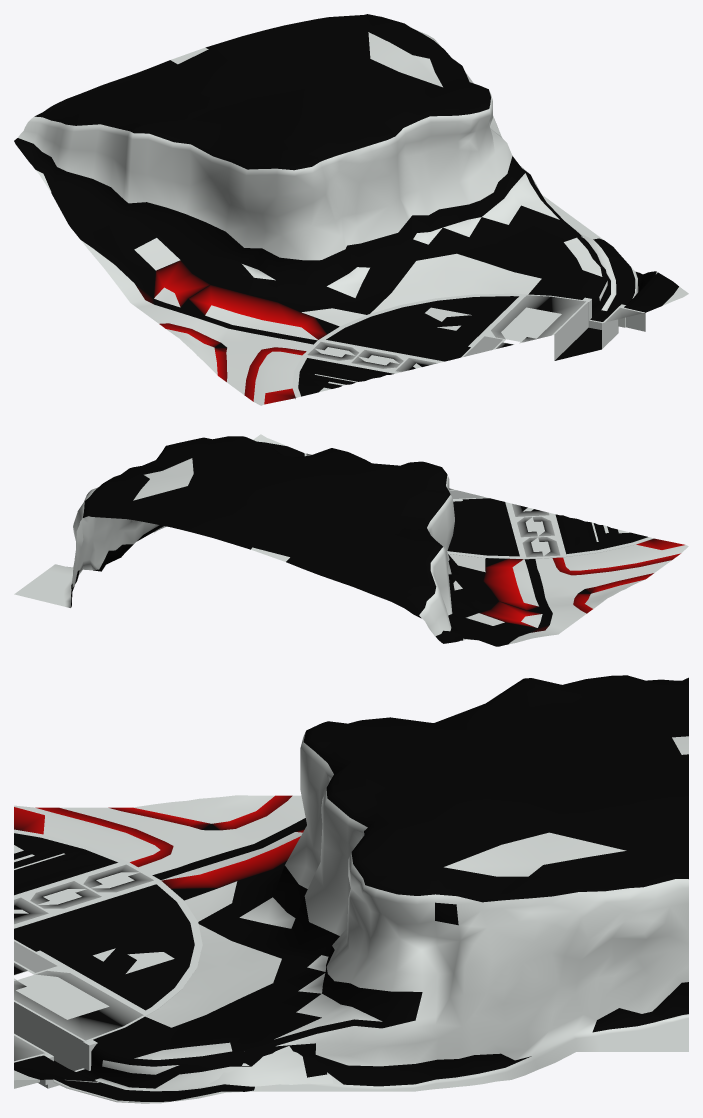
The picture shows the model from 3 angles, top to bottom: view 1: azimuth 30°, elevation 25°; view 2: azimuth 150°, elevation 25°; view 3: azimuth 270°, elevation 25°; orthographic projection. The views are drawn at different scales.
Parts seen in each view (by area): view 1: G:\FFXIV-MapTools\exports\k5f1\bg\ex4\03_kld_k5\fld\k5f1\bgp (×18); view 2: G:\FFXIV-MapTools\exports\k5f1\bg\ex4\03_kld_k5\fld\k5f1\bgp (×16); view 3: G:\FFXIV-MapTools\exports\k5f1\bg\ex4\03_kld_k5\fld\k5f1\bgp (×22).
Part boxes in pixels (x1=…): G:\FFXIV-MapTools\exports\k5f1\bg\ex4\03_kld_k5\fld\k5f1\bgp (×18): x1=14, y1=14, x2=688, y2=405; G:\FFXIV-MapTools\exports\k5f1\bg\ex4\03_kld_k5\fld\k5f1\bgp (×16): x1=14, y1=434, x2=688, y2=646; G:\FFXIV-MapTools\exports\k5f1\bg\ex4\03_kld_k5\fld\k5f1\bgp (×22): x1=14, y1=675, x2=688, y2=1103.
Bounding box in the file's own units: 128 × 45.87 × 128.
